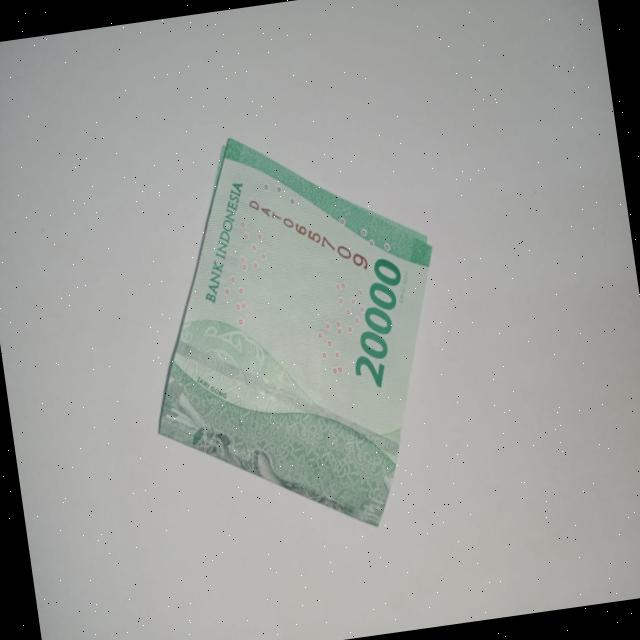20K: (116, 106, 476, 562)
